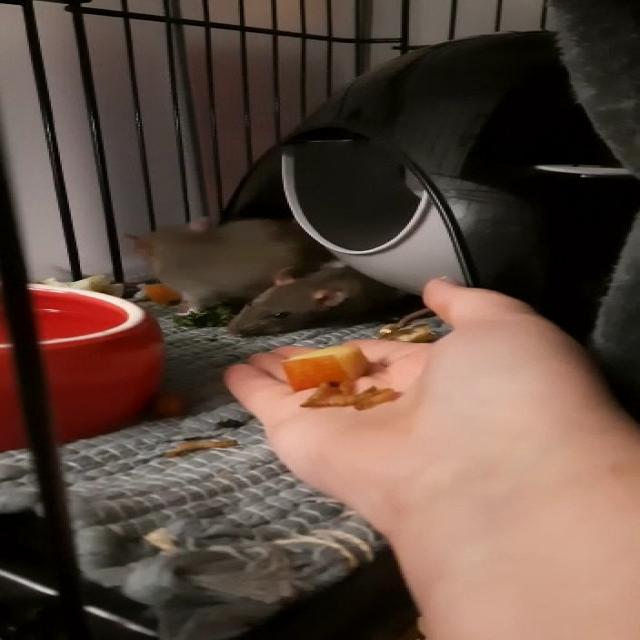rat: (124, 212, 337, 317), (237, 261, 409, 341)
